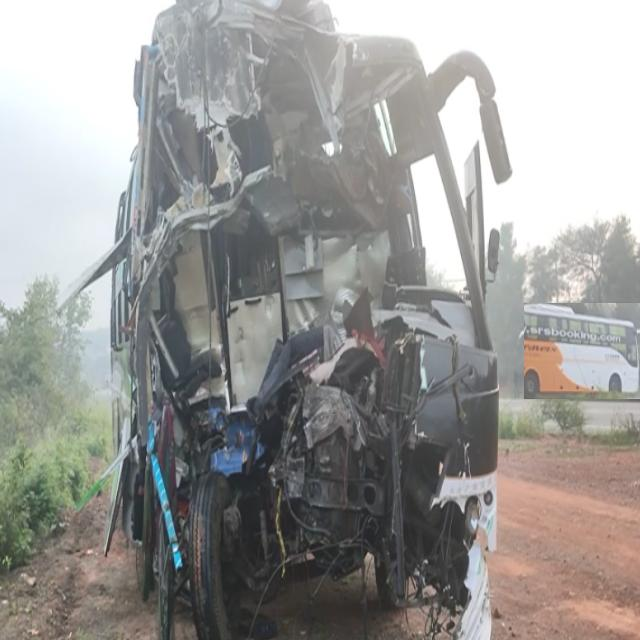accident: (71, 0, 511, 639)
bus: (524, 304, 640, 399)
